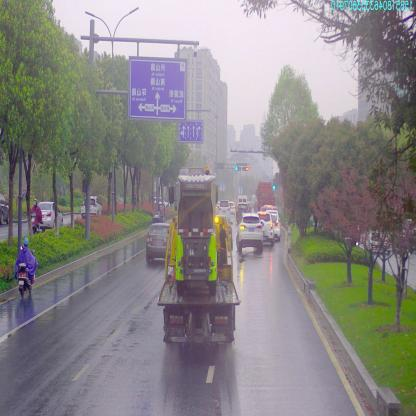traffic-light: (243, 166, 249, 172), (236, 166, 242, 172)
